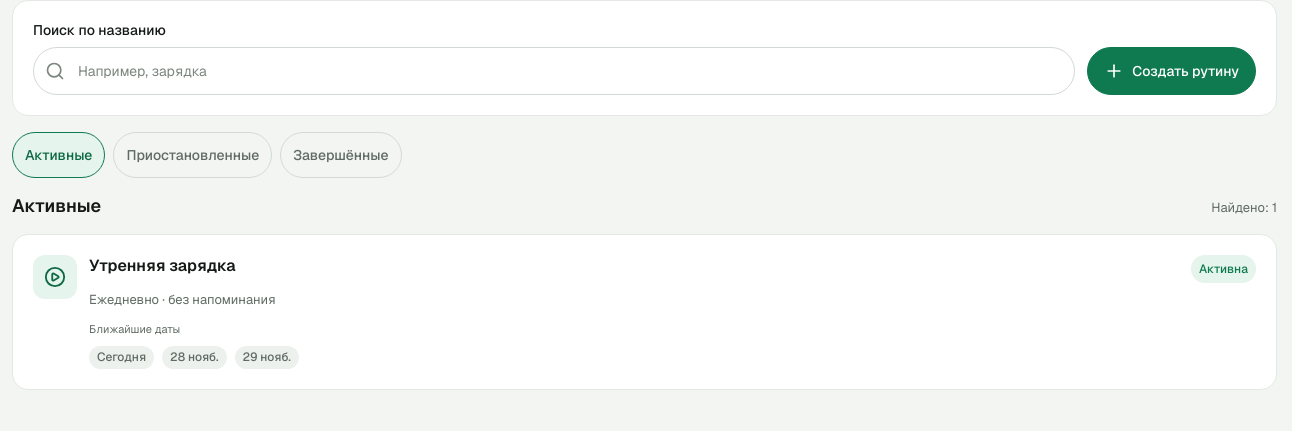
RoutineManagement › фильтрует по статусу и поиску
The image size is (1292, 431).
Click the radio button labelled "Приостановленные": (193, 155) x1=113 y1=132 x2=272 y2=178
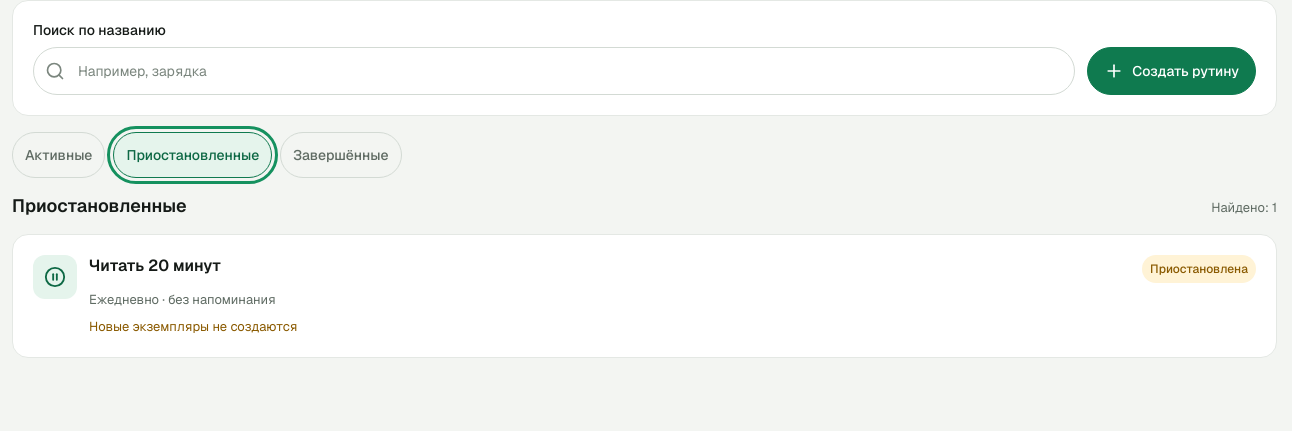
Check: the text "Найдено: 1" is shown, box x1=1211 y1=199 x2=1277 y2=218
Check: the heading "Читать 20 минут" is shown, box x1=89 y1=256 x2=221 y2=278
In the search field labelled "Поиск по названию": (554, 71) x1=33 y1=47 x2=1075 y2=95, type "бюджет"
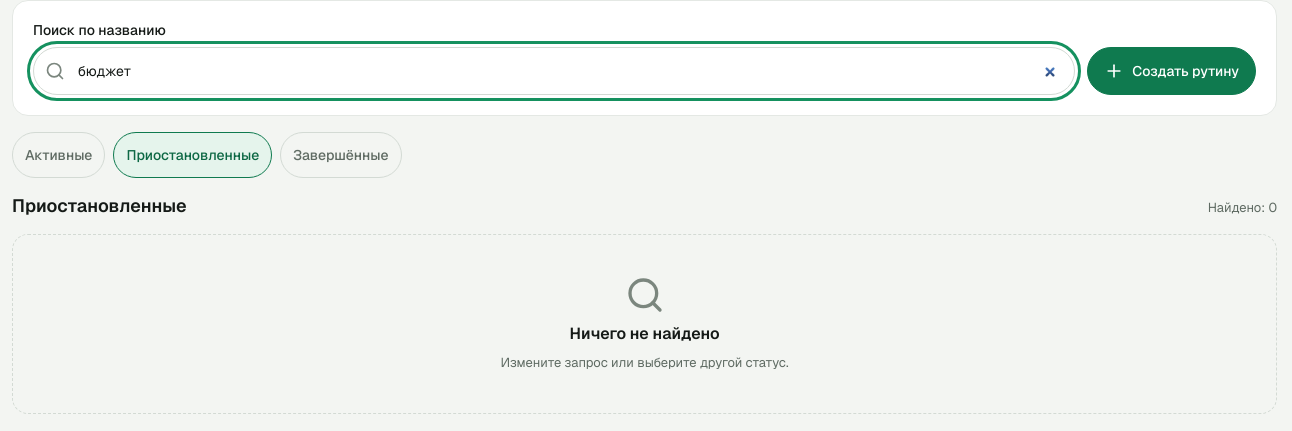
Check: the heading "Ничего не найдено" is shown, box x1=569 y1=324 x2=720 y2=346
